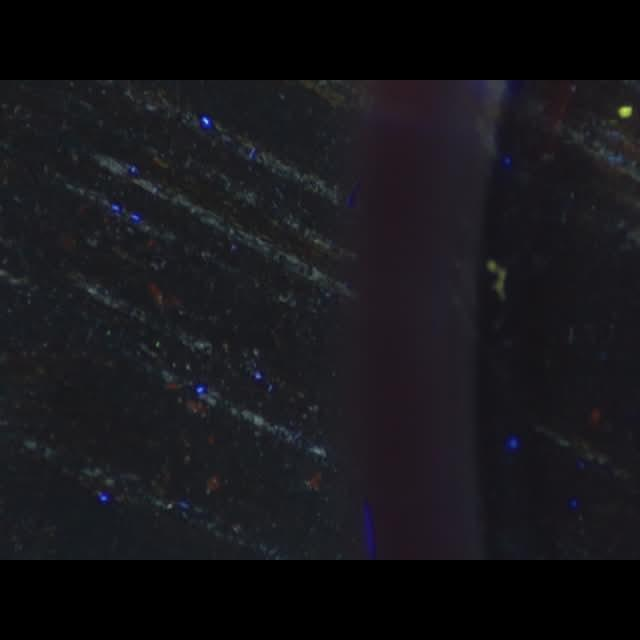Fibre: (485, 258, 509, 300)
microbeads: (617, 106, 633, 118)
